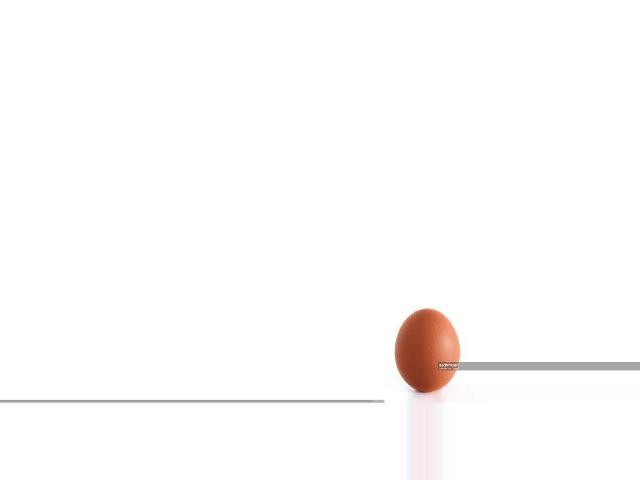egg: (395, 308, 460, 390)
